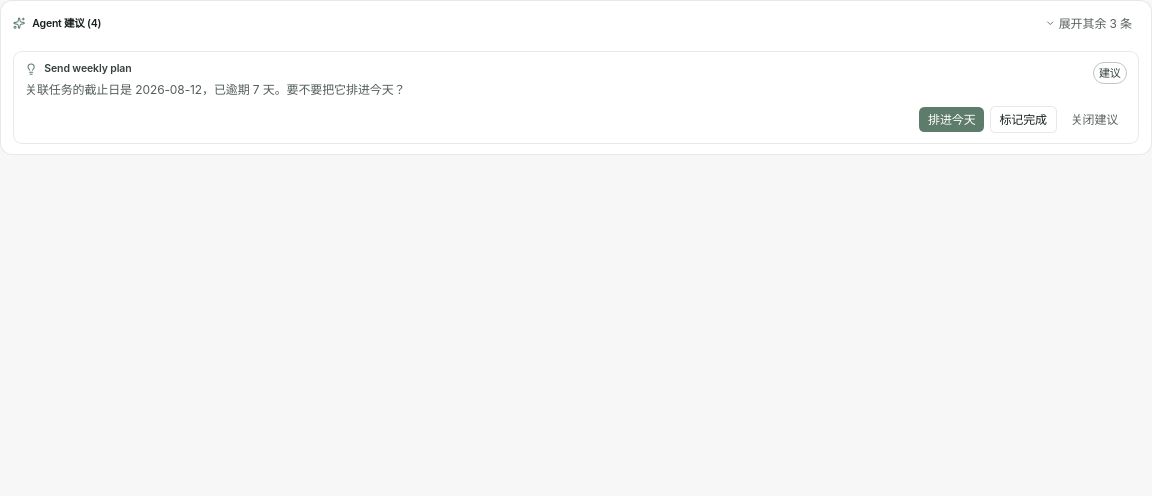
Test: ProactiveSuggestionsCard › collapses when there are 3+ proposals and expands on click
Expected: the number of list items with test id "proposal-item" is 1, [13,51,1139,144]
Click the button with test id "proactive-expand": (1088, 24) [1038,11,1139,36]
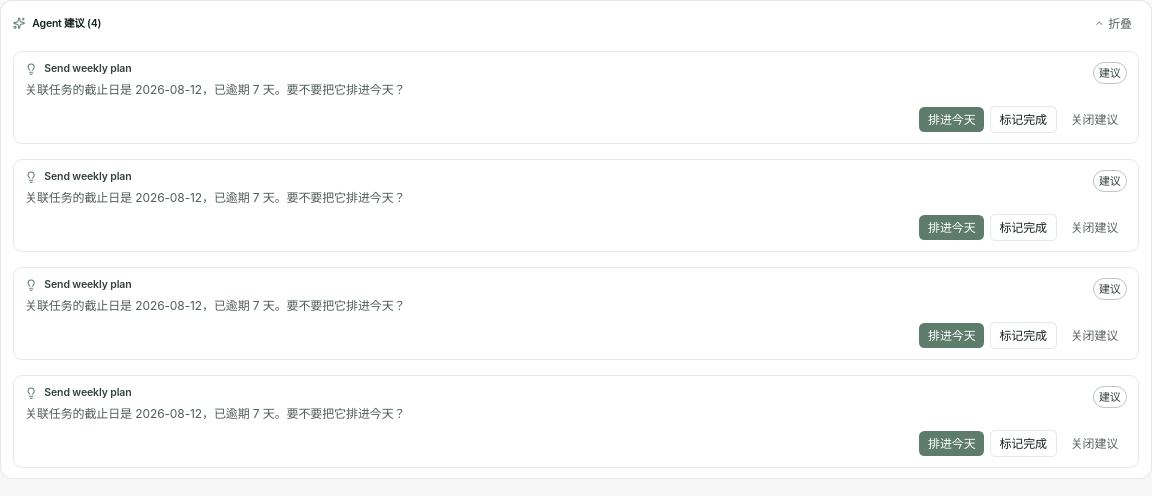
Result: the number of list items with test id "proposal-item" is 4 at [13,51,1139,144]; [13,159,1139,252]; [13,267,1139,360]; [13,375,1139,468]
